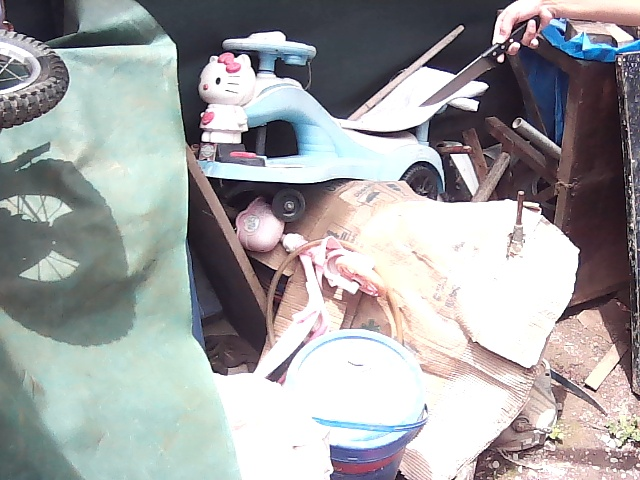cuchillo: (415, 37, 513, 114)
